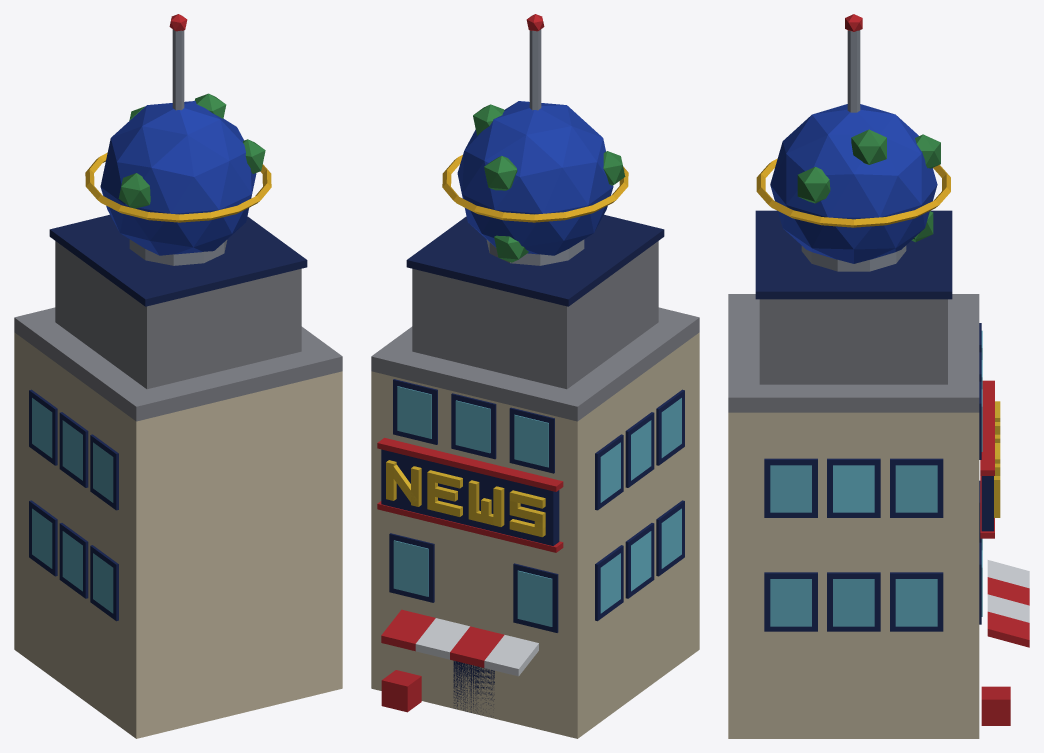
The model's file is Decor_HeroHQ_Newsroom.fbx.
3 renders of one model, left to right at view 1: azimuth 30°, elevation 25°; view 2: azimuth 150°, elevation 25°; view 3: azimuth 270°, elevation 25°, orthographic. The views are drawn at different scales.
Visible parts, largest first — view 1: Newsroom_Body; view 2: Newsroom_Body; view 3: Newsroom_Body.
Part boxes in pixels (bbox=[...]): Newsroom_Body: bbox=[14, 14, 342, 738]; Newsroom_Body: bbox=[371, 14, 699, 738]; Newsroom_Body: bbox=[728, 14, 1029, 738].
Size of the model in its own units: 12 by 35.5 by 14.4.
